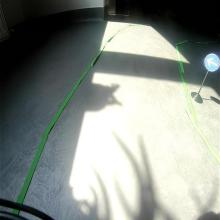left: (204, 53, 220, 73)
